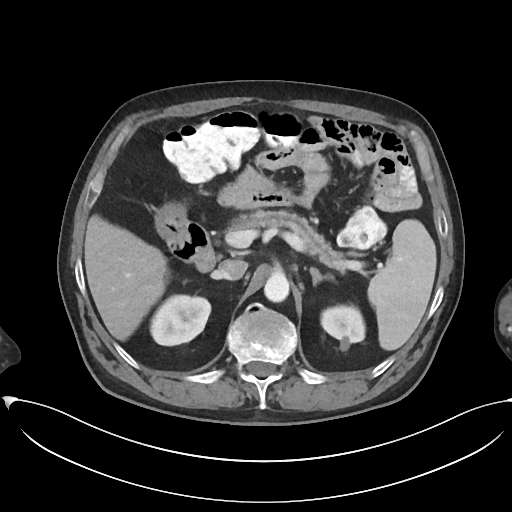Lesion: (337, 330, 355, 357)
